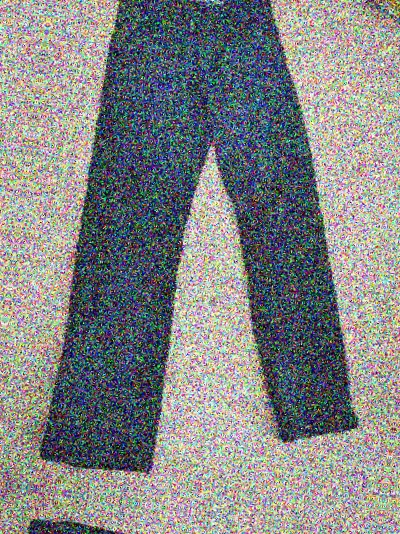Pants: (15, 0, 400, 501), (0, 0, 30, 444), (0, 520, 343, 534)
